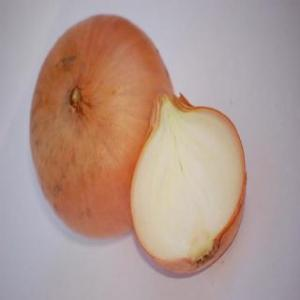onion: (30, 15, 176, 242), (131, 95, 247, 275)
